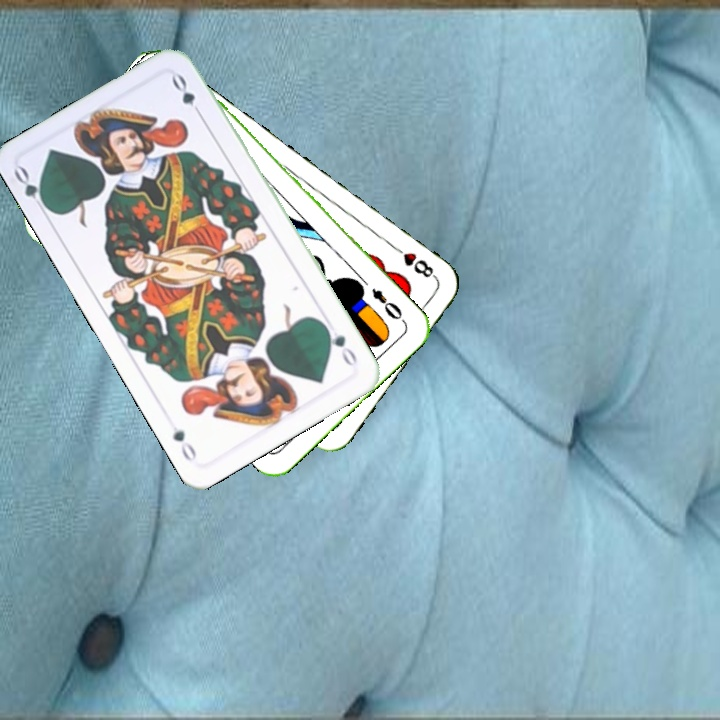EO: (367, 284, 408, 326)
GO: (9, 162, 53, 217), (319, 320, 360, 371)
H8: (388, 241, 439, 282)
